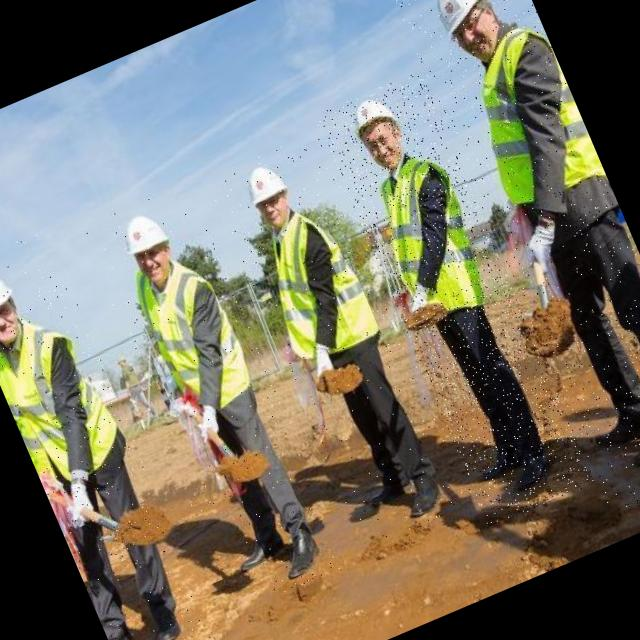hard_hat: (334, 80, 418, 164), (227, 148, 309, 226), (102, 196, 183, 274), (413, 0, 515, 56), (0, 247, 29, 331)
safety_vest: (111, 229, 286, 456), (346, 131, 515, 349), (234, 190, 406, 400), (0, 286, 150, 516)
vehicle: (391, 0, 640, 519), (314, 71, 595, 528), (70, 180, 344, 608), (205, 128, 478, 548), (0, 231, 210, 640)
work_boots: (253, 500, 342, 592), (212, 500, 302, 590), (344, 436, 428, 516), (384, 450, 464, 530), (488, 428, 570, 505), (575, 379, 640, 469), (127, 576, 202, 640), (458, 422, 530, 488), (603, 381, 640, 484), (93, 593, 147, 640)
